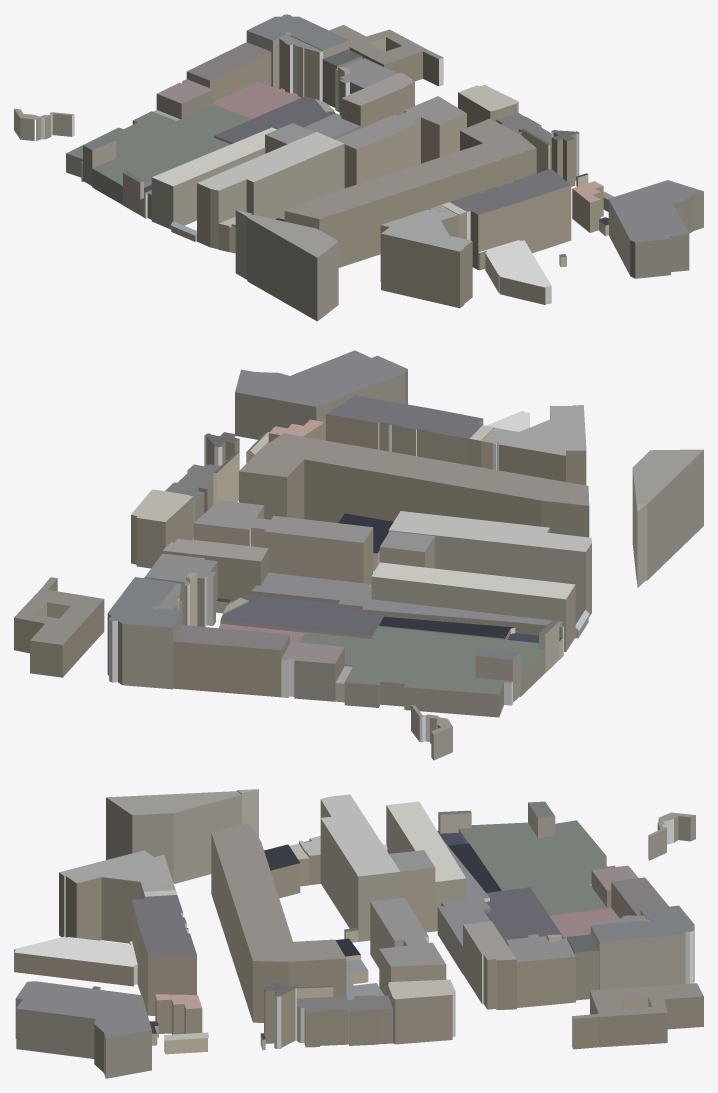
3 views of the same model, one above another, from view 1: azimuth 30°, elevation 25°; view 2: azimuth 150°, elevation 25°; view 3: azimuth 270°, elevation 25° (orthographic). The views are drawn at different scales.
Parts seen in each view (by area): view 1: tuile; view 2: tuile; view 3: tuile.
Part boxes in pixels (x1,y1,x2,y2): tuile: (14, 14, 703, 321); tuile: (14, 350, 703, 760); tuile: (14, 789, 703, 1078).
Bounding box in the file's own units: 228 × 33.15 × 284.
